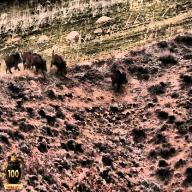boar: (108, 60, 133, 91), (50, 47, 69, 79), (7, 52, 24, 80), (32, 48, 46, 74), (25, 48, 34, 61)
